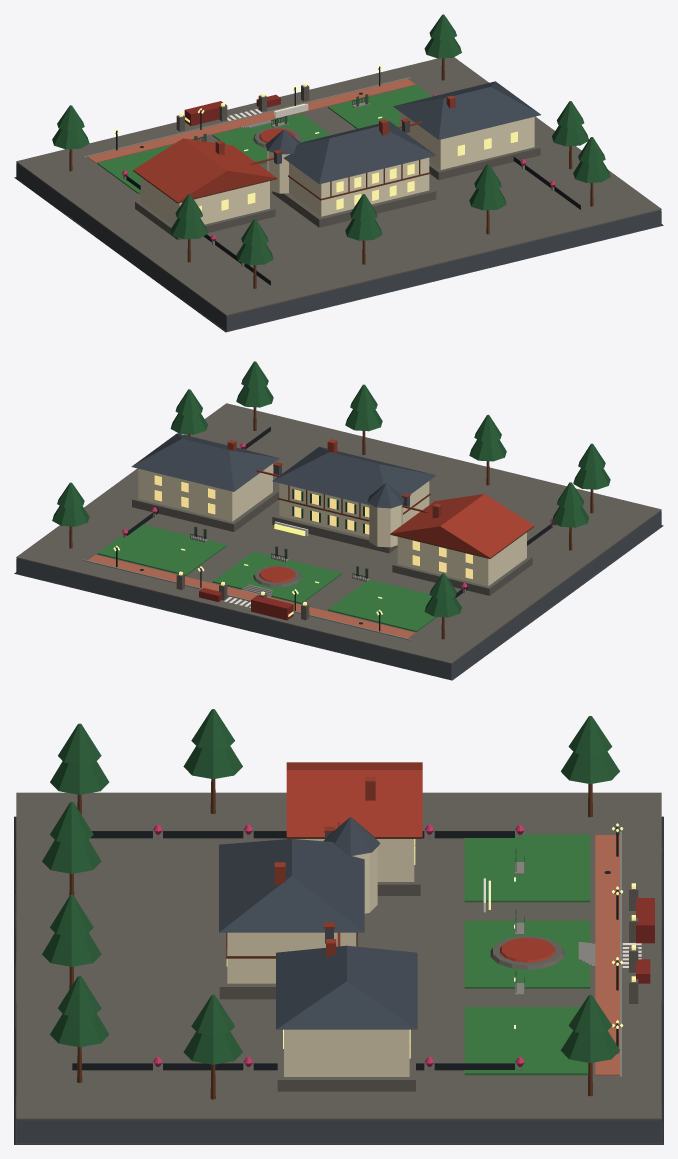
The model's file is lm_41_lang_biet_thu_co_cadasa.glb.
3 views of the same model, one above another, from view 1: azimuth 30°, elevation 25°; view 2: azimuth 150°, elevation 25°; view 3: azimuth 270°, elevation 25° (orthographic). The views are drawn at different scales.
Visible parts, largest first — view 1: Foundation_Plinth_Trim, Foundation_Skirt, Cadasa_Cream_Stucco_Walls, Cadasa_Century_Pines, Cadasa_Villa14_Basque_Gable_Roof, Cadasa_Villa16_Normandy_Roof, Cadasa_Garden_Lawns, Cadasa_Stone_Basements_And_Arches, Cadasa_Villa18_Mansard_Roof, Phase2_Interlocking_Brick_Sidewalk, Cadasa_Glowing_Salon_Windows, Cadasa_Colombage_Timber_Beams (+4 smaller); view 2: Foundation_Plinth_Trim, Foundation_Skirt, Cadasa_Cream_Stucco_Walls, Cadasa_Garden_Lawns, Cadasa_Century_Pines, Cadasa_Villa14_Basque_Gable_Roof, Cadasa_Villa16_Normandy_Roof, Cadasa_Stone_Basements_And_Arches, Cadasa_Villa18_Mansard_Roof, Phase2_Interlocking_Brick_Sidewalk, Cadasa_Glowing_Salon_Windows, Cadasa_Colombage_Timber_Beams (+6 smaller); view 3: Foundation_Plinth_Trim, Cadasa_Garden_Lawns, Cadasa_Century_Pines, Foundation_Skirt, Cadasa_Villa16_Normandy_Roof, Cadasa_Cream_Stucco_Walls, Cadasa_Villa18_Mansard_Roof, Cadasa_Villa14_Basque_Gable_Roof, Cadasa_Stone_Basements_And_Arches, Phase2_Interlocking_Brick_Sidewalk, Phase2_WroughtIron_Balconies_Railings_Manholes, Phase2_Granite_Curb_And_Entry_Steps (+5 smaller).
Boxes of the visible parts, x1=… form: Foundation_Plinth_Trim: x1=16, y1=57, x2=661, y2=315; Foundation_Skirt: x1=14, y1=163, x2=663, y2=332; Cadasa_Cream_Stucco_Walls: x1=140, y1=112, x2=534, y2=225; Cadasa_Century_Pines: x1=52, y1=14, x2=610, y2=265; Cadasa_Villa14_Basque_Gable_Roof: x1=133, y1=138, x2=276, y2=202; Cadasa_Villa16_Normandy_Roof: x1=283, y1=121, x2=436, y2=184; Cadasa_Garden_Lawns: x1=97, y1=85, x2=431, y2=193; Cadasa_Stone_Basements_And_Arches: x1=135, y1=85, x2=540, y2=240; Cadasa_Villa18_Mansard_Roof: x1=393, y1=81, x2=540, y2=139; Phase2_Interlocking_Brick_Sidewalk: x1=87, y1=78, x2=415, y2=162; Cadasa_Glowing_Salon_Windows: x1=179, y1=83, x2=517, y2=211; Cadasa_Colombage_Timber_Beams: x1=69, y1=58, x2=593, y2=288; Foundation_Plinth_Trim: x1=16, y1=403, x2=661, y2=664; Foundation_Skirt: x1=14, y1=511, x2=663, y2=680; Cadasa_Cream_Stucco_Walls: x1=138, y1=464, x2=526, y2=586; Cadasa_Garden_Lawns: x1=97, y1=524, x2=436, y2=631; Cadasa_Century_Pines: x1=52, y1=361, x2=610, y2=617; Cadasa_Villa14_Basque_Gable_Roof: x1=391, y1=494, x2=533, y2=557; Cadasa_Villa16_Normandy_Roof: x1=272, y1=446, x2=436, y2=504; Cadasa_Stone_Basements_And_Arches: x1=132, y1=490, x2=532, y2=620; Cadasa_Villa18_Mansard_Roof: x1=131, y1=433, x2=279, y2=491; Phase2_Interlocking_Brick_Sidewalk: x1=88, y1=554, x2=415, y2=638; Cadasa_Glowing_Salon_Windows: x1=154, y1=475, x2=472, y2=605; Cadasa_Colombage_Timber_Beams: x1=69, y1=407, x2=593, y2=639; Foundation_Plinth_Trim: x1=16, y1=792, x2=661, y2=1120; Cadasa_Garden_Lawns: x1=464, y1=834, x2=590, y2=1075; Cadasa_Century_Pines: x1=42, y1=709, x2=619, y2=1064; Foundation_Skirt: x1=14, y1=816, x2=663, y2=1144; Cadasa_Villa16_Normandy_Roof: x1=219, y1=838, x2=364, y2=932; Cadasa_Cream_Stucco_Walls: x1=227, y1=839, x2=414, y2=1076; Cadasa_Villa18_Mansard_Roof: x1=276, y1=945, x2=417, y2=1029; Cadasa_Villa14_Basque_Gable_Roof: x1=286, y1=762, x2=422, y2=836; Cadasa_Stone_Basements_And_Arches: x1=219, y1=839, x2=638, y2=1091; Phase2_Interlocking_Brick_Sidewalk: x1=595, y1=835, x2=619, y2=1075; Phase2_WroughtIron_Balconies_Railings_Manholes: x1=72, y1=826, x2=620, y2=1070; Phase2_Granite_Curb_And_Entry_Steps: x1=156, y1=831, x2=621, y2=1077.
Size of the model in its own units: 98.86 by 19 by 82.72.
